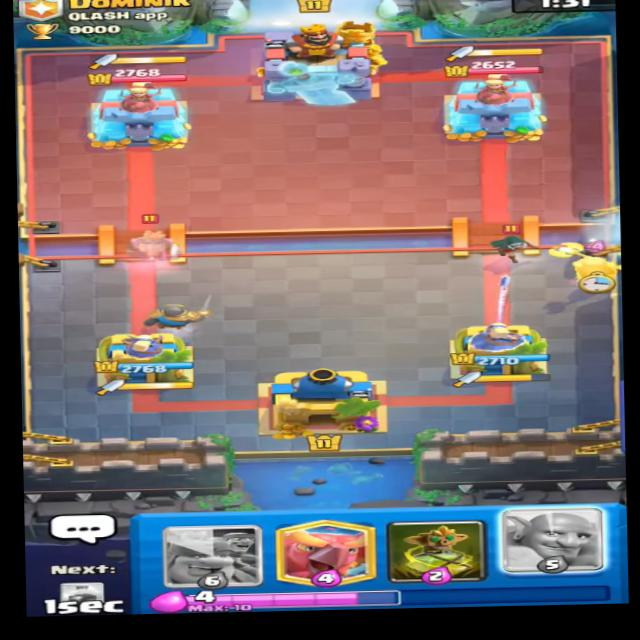bandit: (483, 222, 536, 258)
royal-ghost: (118, 219, 187, 265)
